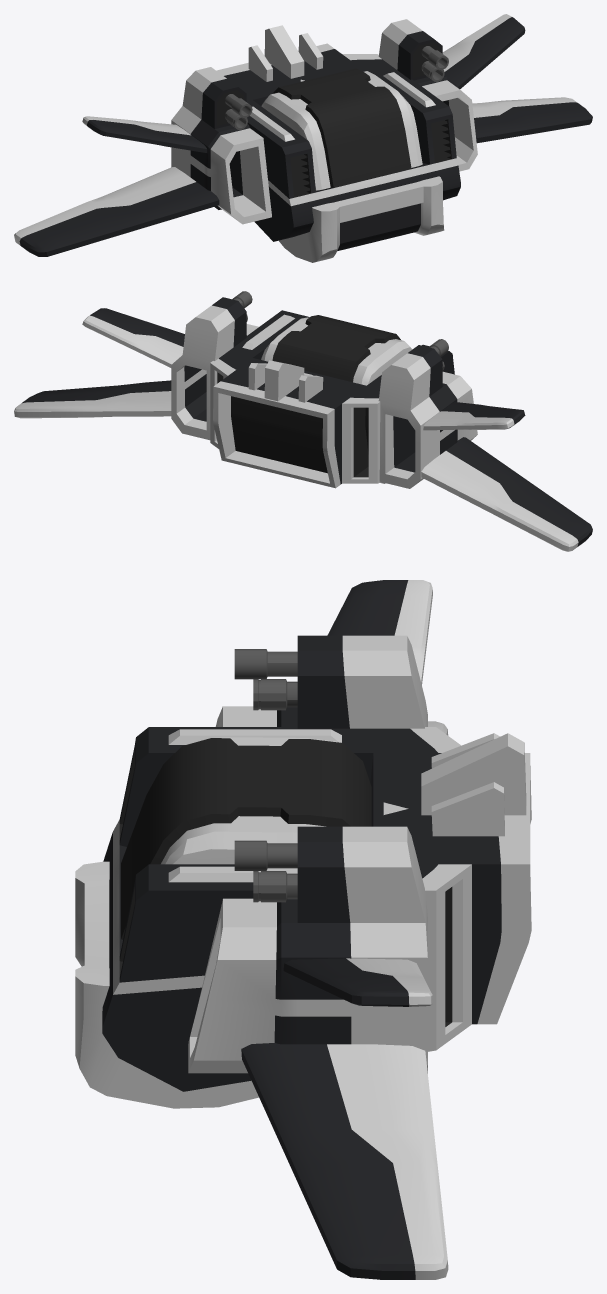
The model's file is SpaceshipC_6.glb.
3 views of the same model, one above another, from view 1: azimuth 30°, elevation 25°; view 2: azimuth 150°, elevation 25°; view 3: azimuth 270°, elevation 25° (orthographic). The views are drawn at different scales.
Parts seen in each view (by area): view 1: Spaceship_FinnTheFrog.002; view 2: Spaceship_FinnTheFrog.002; view 3: Spaceship_FinnTheFrog.002.
Boxes of the visible parts, x1=… form: Spaceship_FinnTheFrog.002: x1=14, y1=14, x2=592, y2=262; Spaceship_FinnTheFrog.002: x1=14, y1=291, x2=592, y2=551; Spaceship_FinnTheFrog.002: x1=75, y1=580, x2=531, y2=1279.
Size of the model in its own units: 11.62 by 3.06 by 4.11.
Materials: 1 (1 with a texture image).
